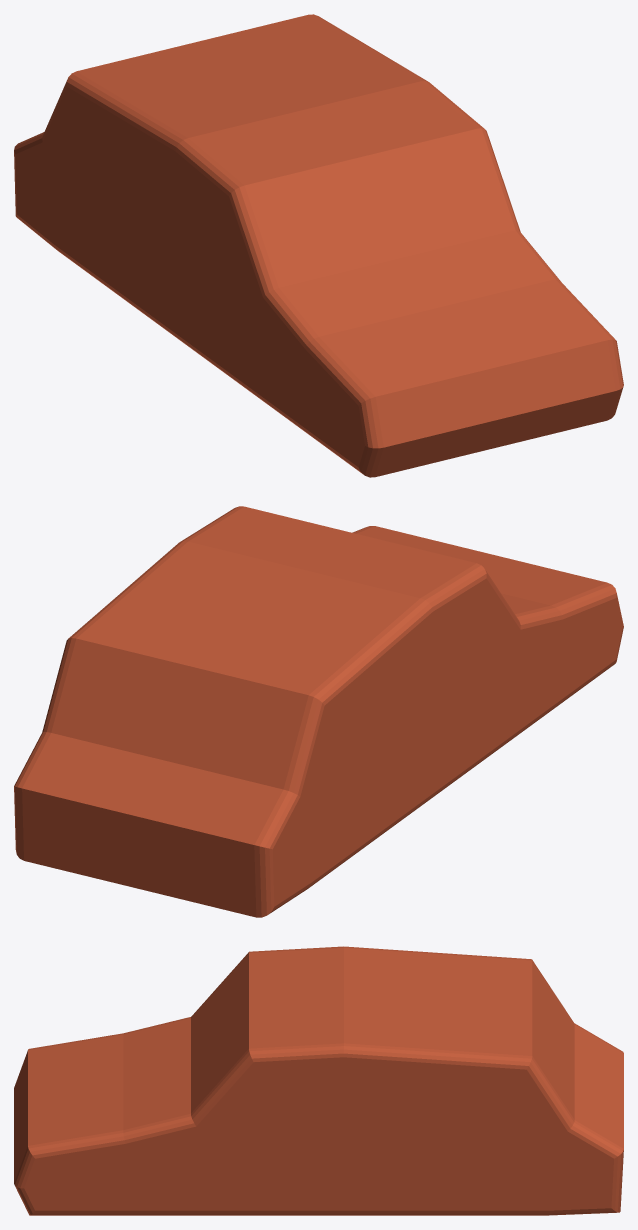
File: car-rally.glb
The picture shows the model from 3 angles, top to bottom: view 1: azimuth 30°, elevation 25°; view 2: azimuth 150°, elevation 25°; view 3: azimuth 270°, elevation 25°; orthographic projection. The views are drawn at different scales.
Visible parts, largest first — view 1: body; view 2: body; view 3: body.
Boxes of the visible parts, x1=… form: body: x1=14, y1=14, x2=623, y2=477; body: x1=14, y1=506, x2=623, y2=917; body: x1=14, y1=946, x2=623, y2=1215.
Bounding box in the file's own units: 1.84 × 1.38 × 4.47.
